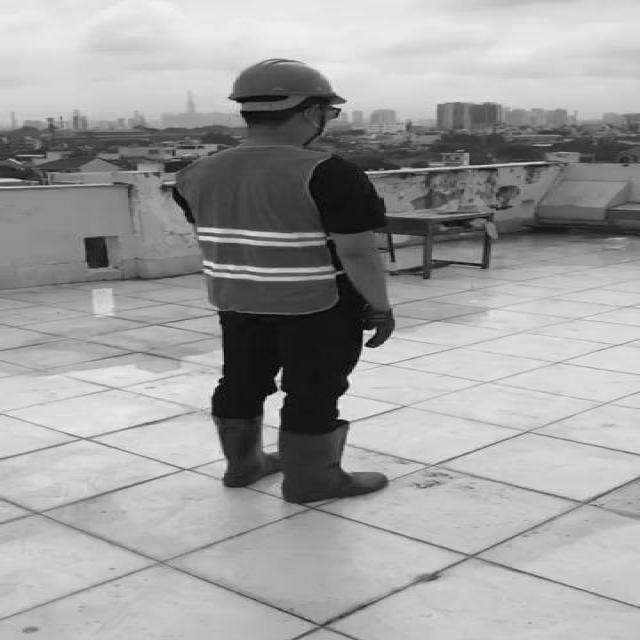boots: (279, 423, 389, 508), (210, 417, 276, 486)
hand_glove: (357, 307, 395, 350)
head_helmet: (225, 58, 337, 104)
person: (160, 53, 407, 504)
vest: (176, 147, 341, 315)
